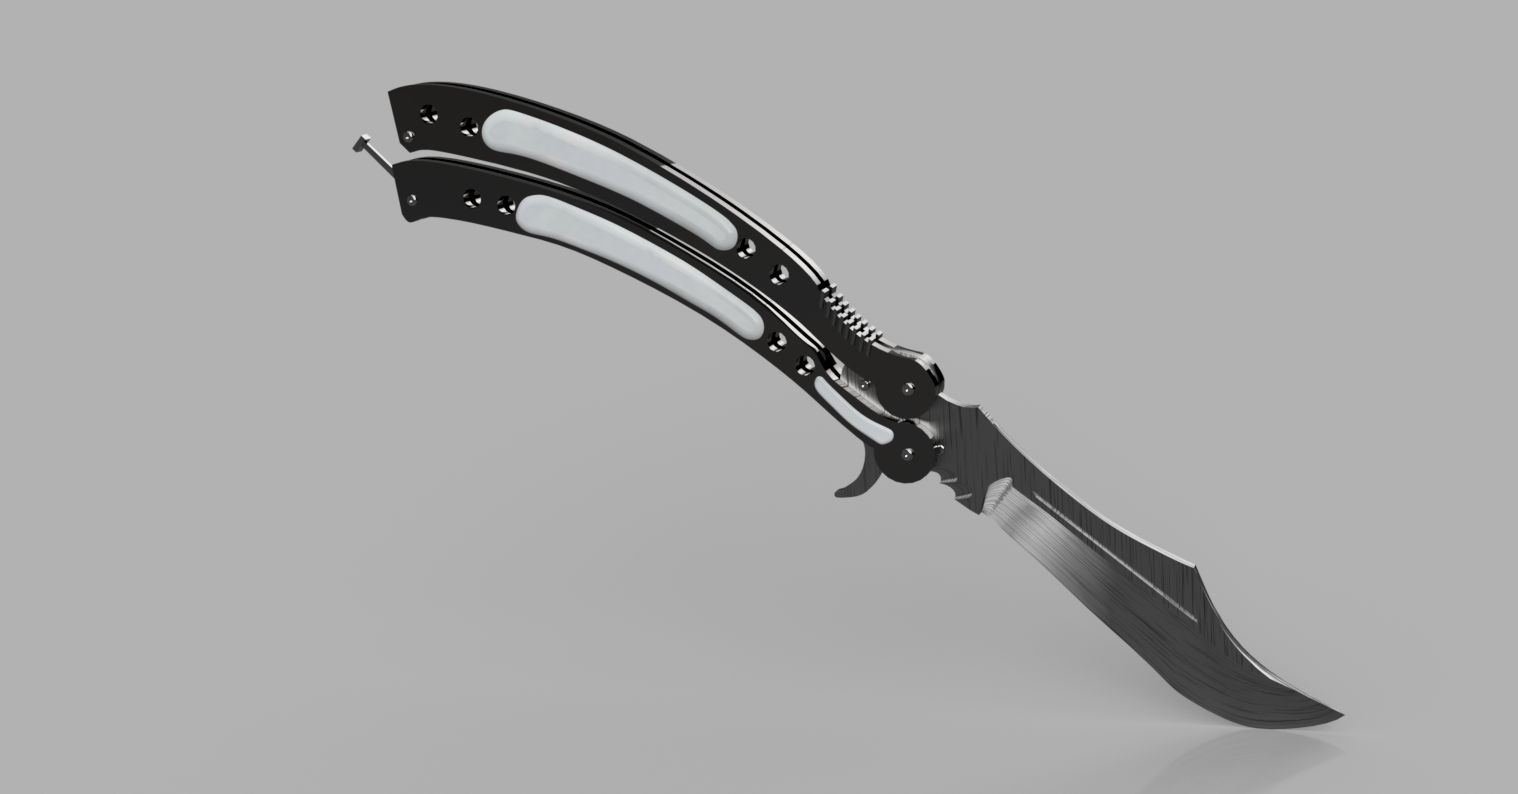knife: (361, 78, 1354, 731)
